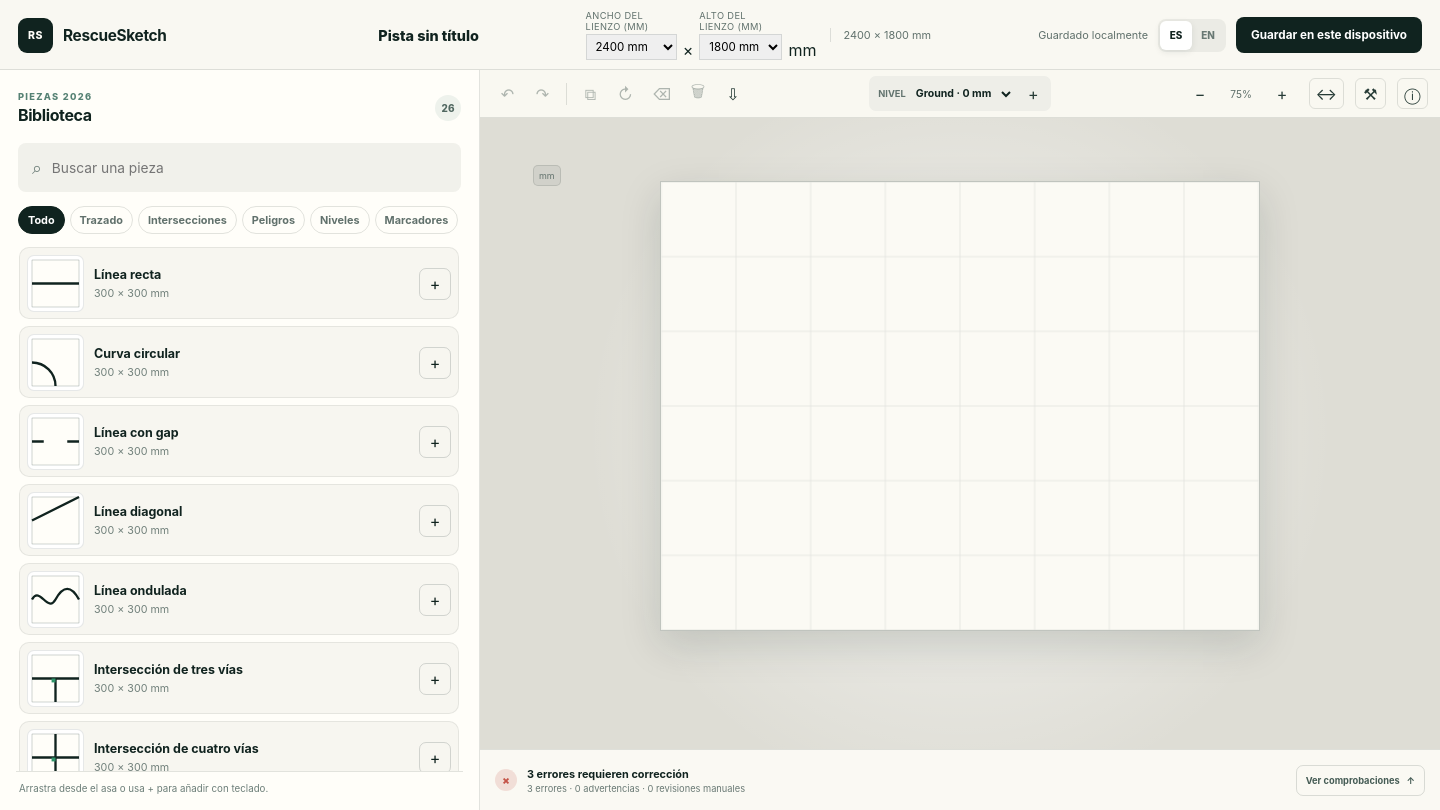
EditorWorkspace › shows derived dimensions and the construction report without persisting them
Click the button named "Línea recta". click: [435, 284]
box: [419,268,451,300]
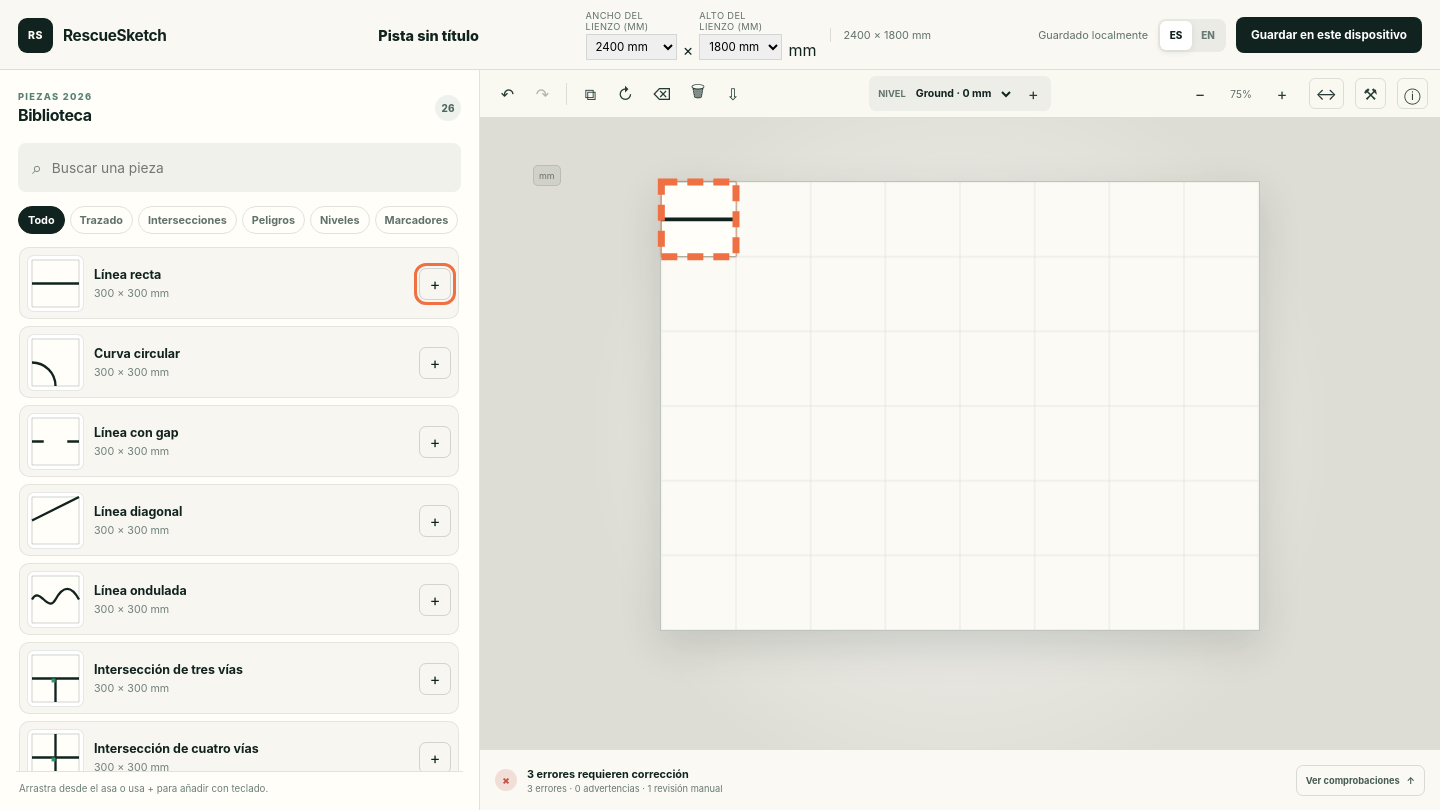
Click the button named "Mostrar u ocultar cotas". click: [1326, 94]
box: [1308,78,1344,109]
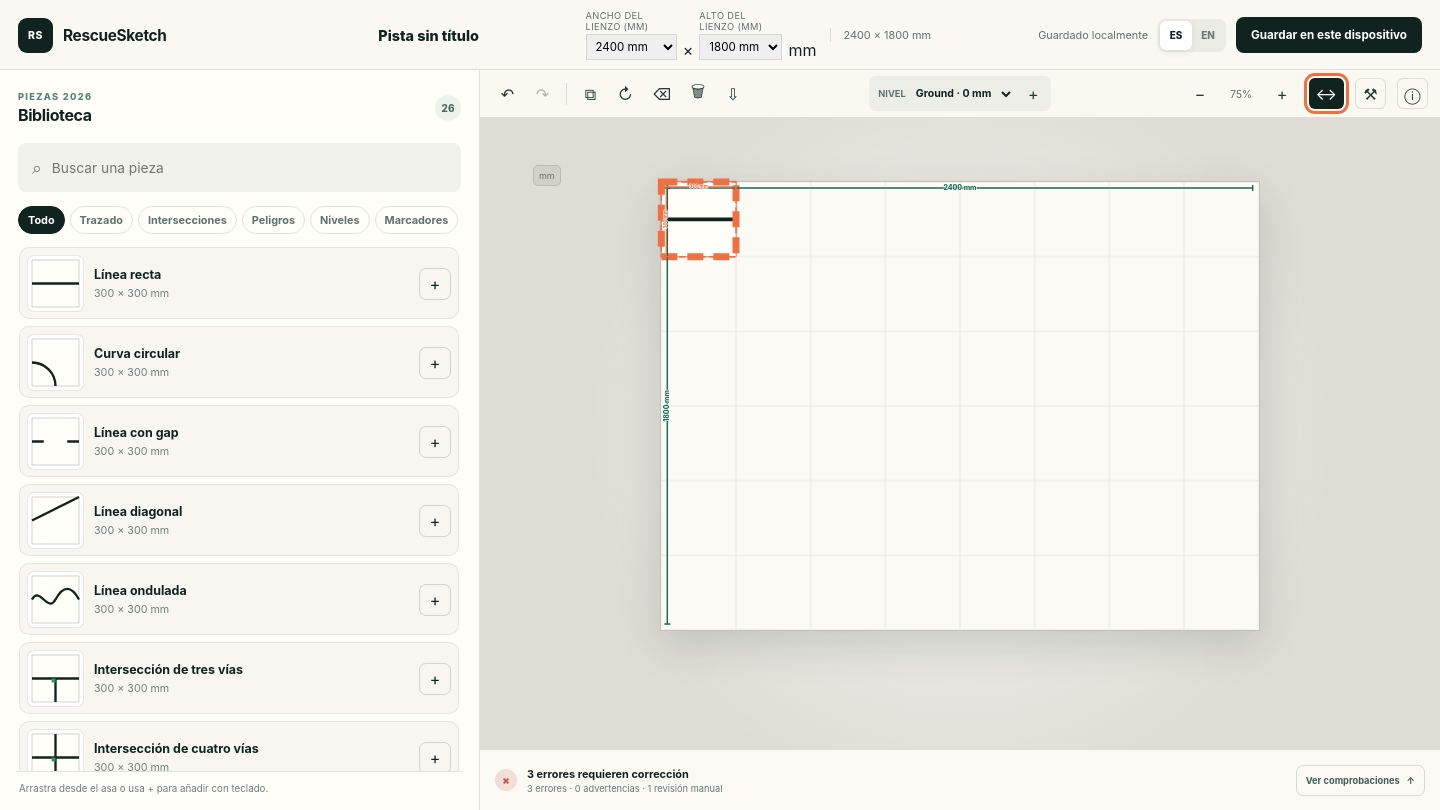
Expected: the element "Cotas de fabricación" is shown, [662,183,977,422]
Click the button named "Mostrar u ocultar informe de fabricación". click: [1370, 94]
box: [1355,78,1386,109]
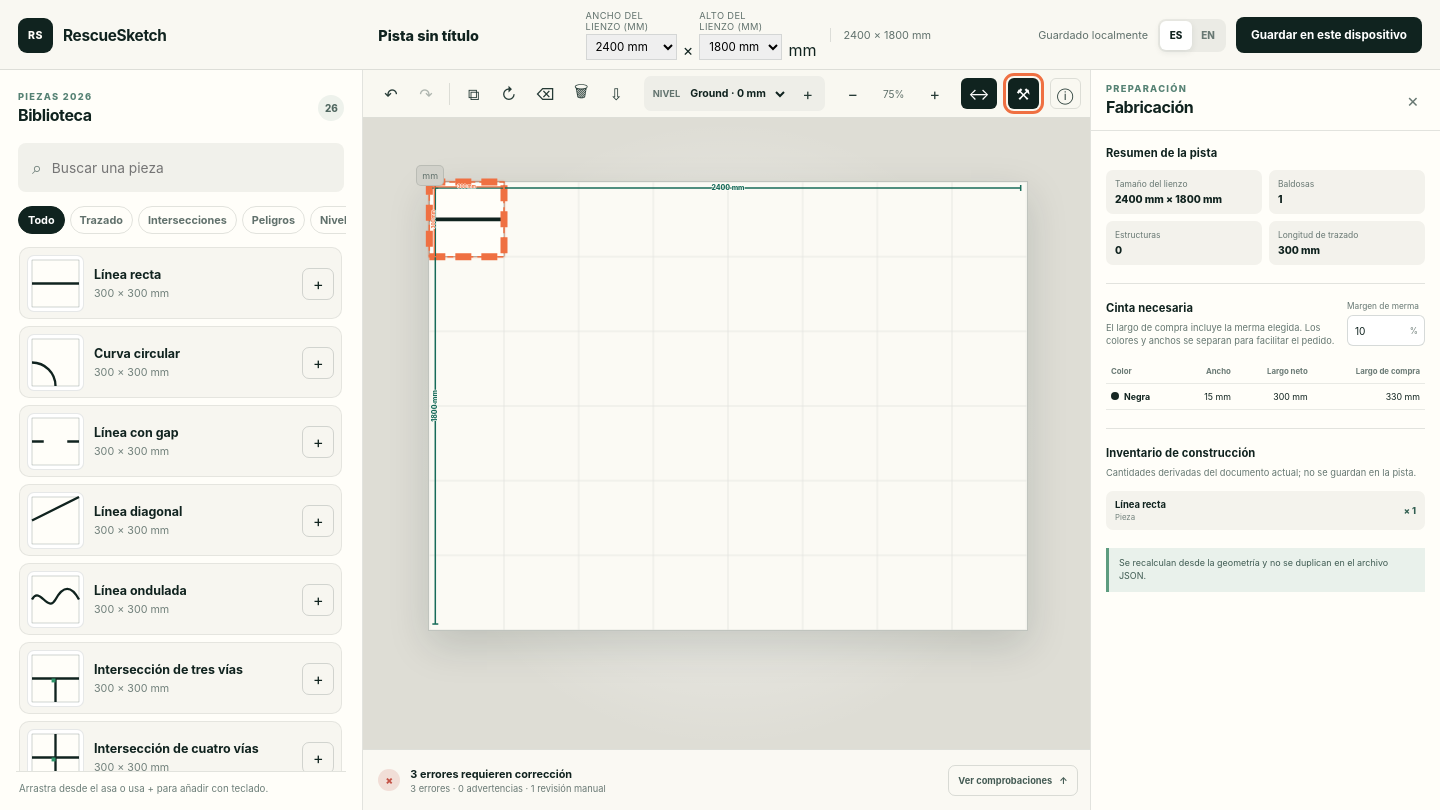
Expected: the text "300 mm" is shown, [1278,244,1320,256]
Expected: the text "Línea recta" below "Inventario de construcción" is shown, [1115,499,1166,510]
Expected: the text "× 1" is shown, [1404,505,1416,516]
